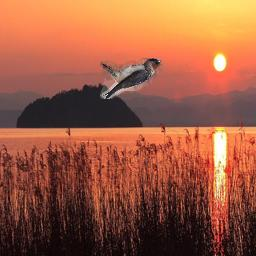Swallow: (100, 58, 164, 99)
